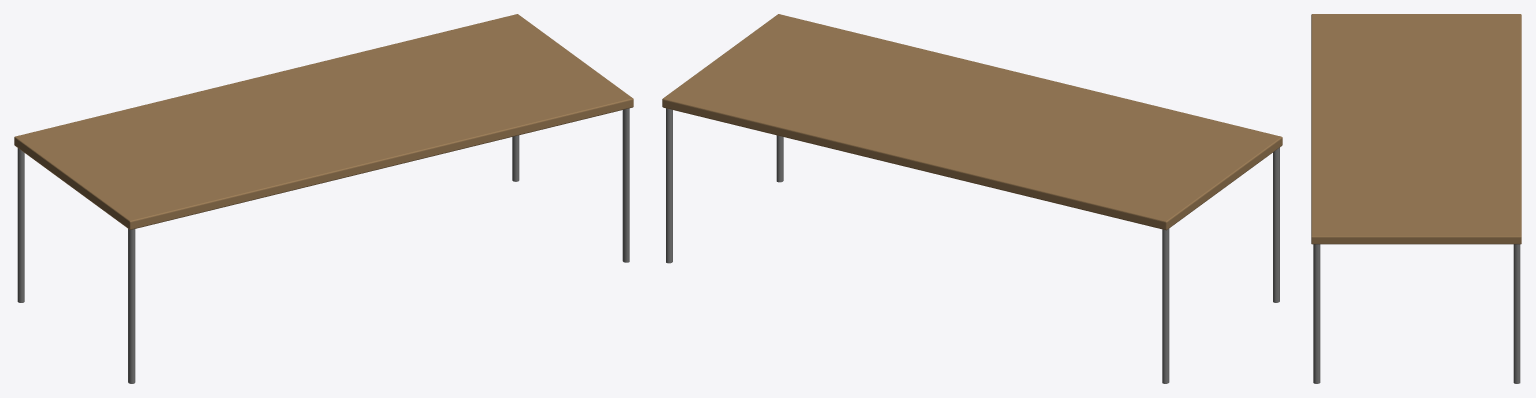
File: table.glb
3 renders of one model, left to right at view 1: azimuth 30°, elevation 25°; view 2: azimuth 150°, elevation 25°; view 3: azimuth 270°, elevation 25°, orthographic. The views are drawn at different scales.
Visible parts, largest first — view 1: Table, leg 1, leg 4, leg 2; view 2: Table, leg 2, leg 3, leg 1; view 3: Table, leg 3, leg 4.
Part boxes in pixels (bbox=[...]): Table: bbox=[14, 14, 633, 229]; leg 1: bbox=[128, 229, 135, 383]; leg 4: bbox=[622, 108, 629, 262]; leg 2: bbox=[17, 148, 24, 302]; Table: bbox=[662, 14, 1282, 230]; leg 2: bbox=[1162, 229, 1169, 383]; leg 3: bbox=[666, 108, 672, 263]; leg 1: bbox=[1273, 147, 1279, 302]; Table: bbox=[1311, 14, 1521, 244]; leg 3: bbox=[1513, 244, 1520, 383]; leg 4: bbox=[1313, 244, 1320, 383].
Size of the model in its own units: 3.92 by 1.22 by 1.56.
